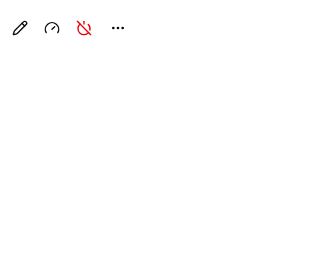
Test: channel row actions › OpenAI retains Fetch Models with upstream update visibility true
This screenshot has width=332, height=275.
Click the button named "Open menu": click(118, 28) [102,12,134,44]
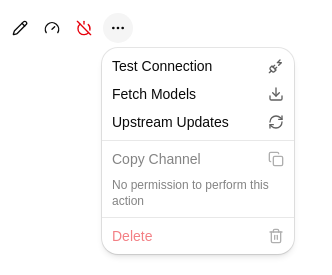
Now the menu item "Fetch Models" is shown, box [112,86,284,102]
Now the menu item "Upstream Updates" is shown, box [112,114,284,130]
